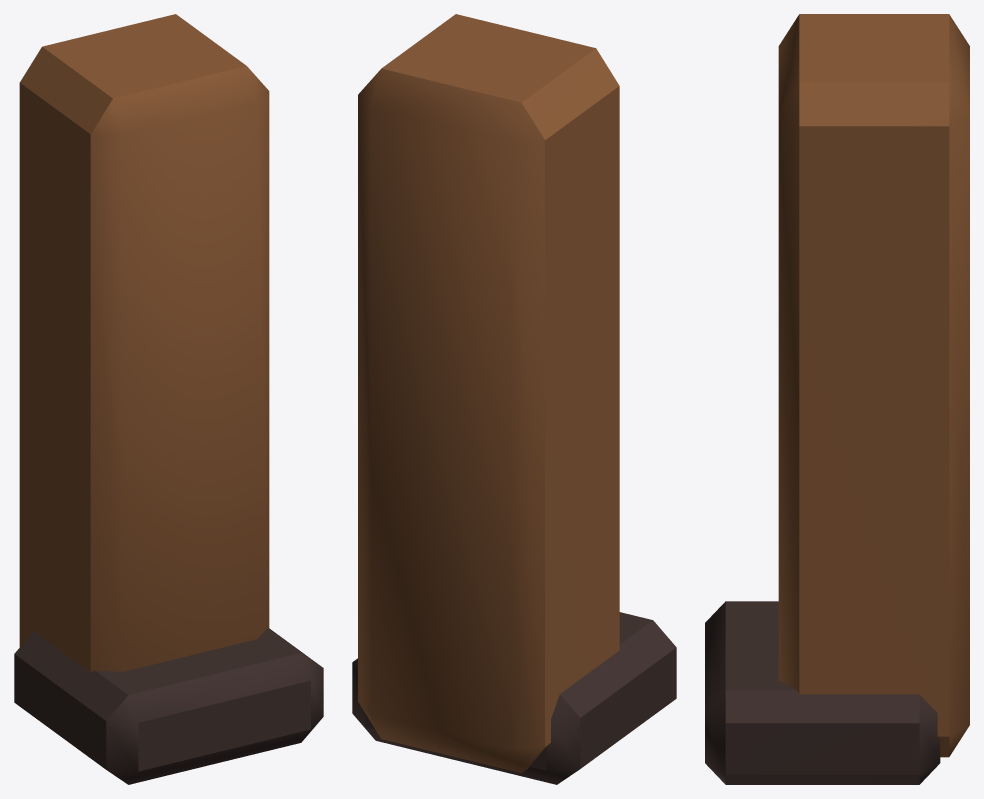
The model's file is SM_Bear_LegF.fbx.
3 views of the same model, side by side, from view 1: azimuth 30°, elevation 25°; view 2: azimuth 150°, elevation 25°; view 3: azimuth 270°, elevation 25° (orthographic). The views are drawn at different scales.
Visible parts, largest first — view 1: SM_Bear_LegF; view 2: SM_Bear_LegF; view 3: SM_Bear_LegF.
Part boxes in pixels (x1,y1,x2,y2): SM_Bear_LegF: (14,14,323,784); SM_Bear_LegF: (352,14,676,784); SM_Bear_LegF: (705,14,969,784).
Bounding box in the file's own units: 1.63 × 4.7 × 1.63.
Materials: 1 (1 with a texture image).
